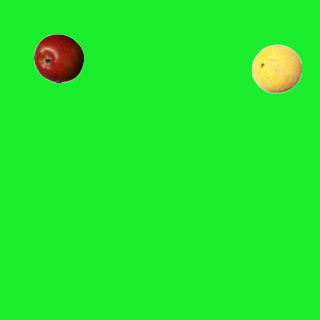Apple Braeburn: (33, 33, 83, 83)
Cantaloupe 1: (251, 43, 301, 93)
